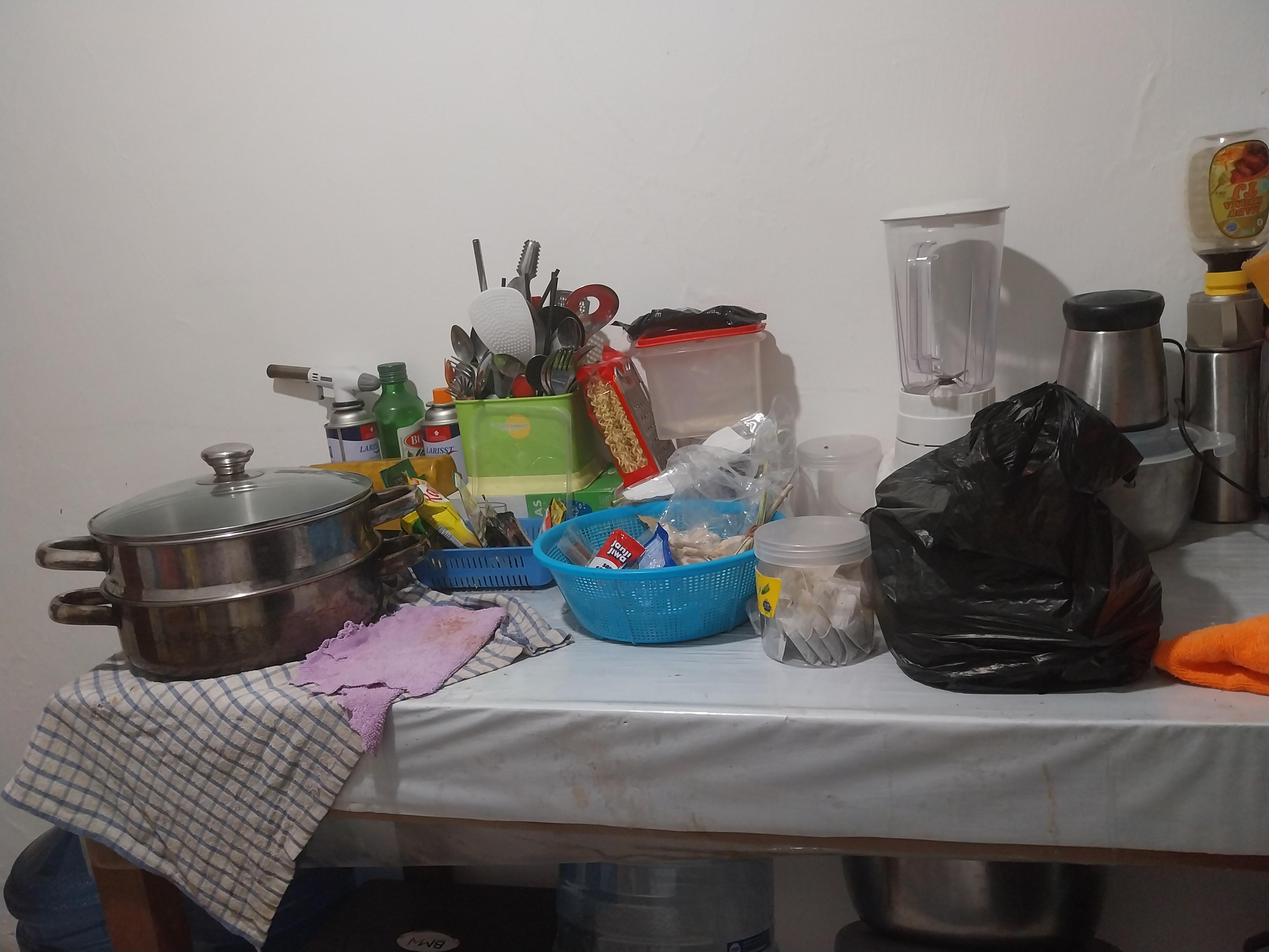bottle: (1183, 128, 1269, 523), (1186, 128, 1269, 296), (368, 360, 429, 459), (1222, 476, 1225, 479), (1230, 480, 1233, 483)
spoon: (549, 308, 588, 355), (487, 347, 527, 385), (493, 352, 525, 398), (474, 348, 496, 400), (507, 373, 538, 406), (525, 353, 547, 395), (451, 324, 474, 363), (450, 364, 475, 399), (470, 328, 490, 364), (444, 358, 457, 392)
table: (305, 628, 1269, 868), (1147, 512, 1269, 637), (528, 581, 578, 629)
towel: (0, 571, 384, 947), (286, 534, 512, 761), (377, 575, 576, 702), (1153, 615, 1269, 695)
